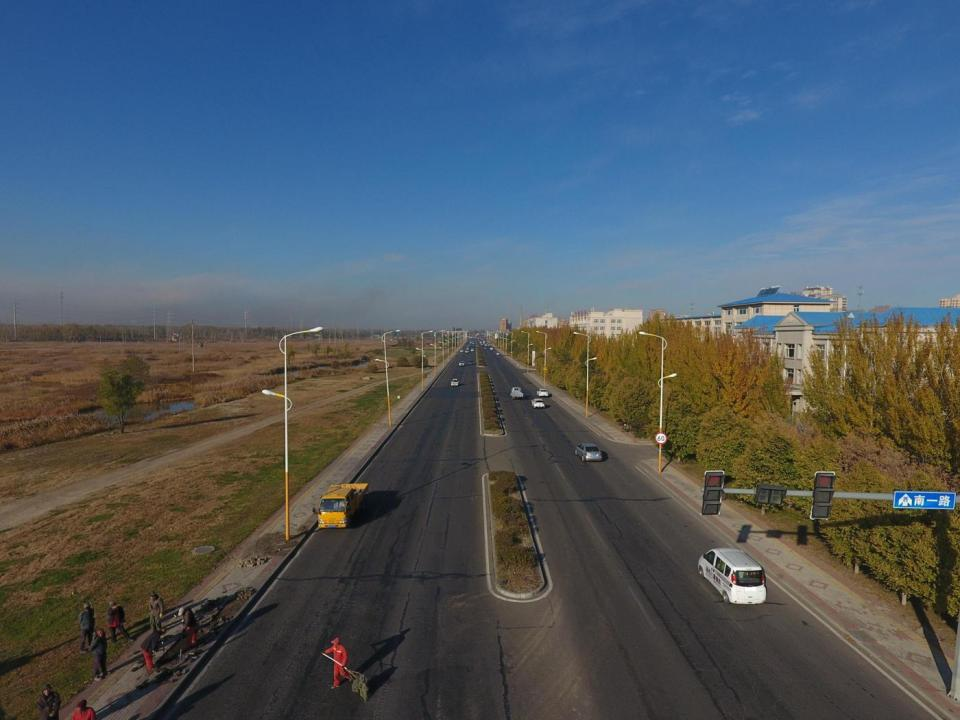car: (576, 444, 603, 462), (531, 398, 545, 409), (536, 388, 549, 397), (452, 379, 460, 386), (469, 360, 475, 365), (459, 362, 465, 366), (471, 348, 475, 352), (460, 349, 464, 352), (465, 350, 469, 353), (496, 352, 500, 355), (490, 347, 493, 350), (484, 348, 487, 350), (472, 345, 474, 348), (480, 343, 483, 345), (468, 344, 470, 346), (485, 344, 487, 346), (485, 345, 488, 346)
truck: (316, 480, 372, 531), (510, 387, 525, 399), (466, 346, 469, 350), (472, 340, 474, 344), (470, 340, 472, 344), (483, 341, 485, 344), (480, 341, 482, 343)
van: (696, 548, 767, 605)
